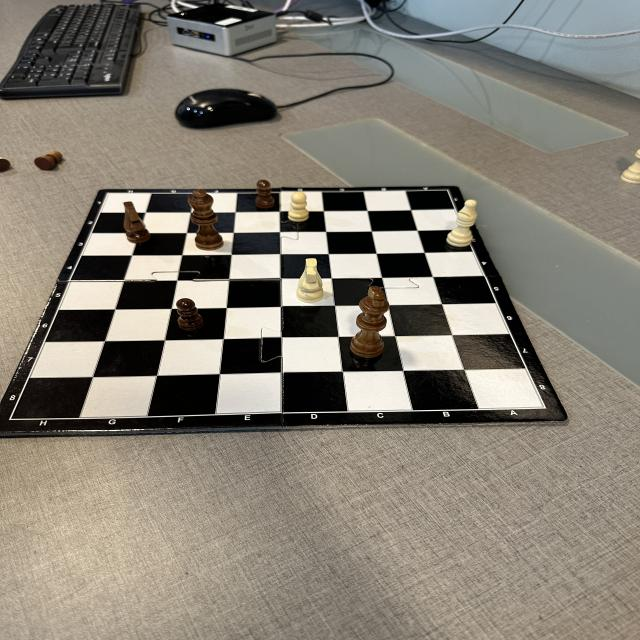Black-King: (350, 286, 390, 358)
Black-Knight: (123, 201, 152, 244)
Black-Pawn: (176, 298, 204, 331), (254, 180, 276, 209), (34, 151, 64, 171)
Black-Queen: (188, 188, 225, 250)
White-Bishop: (446, 200, 477, 248)
White-Knight: (295, 258, 324, 303)
White-Pawn: (287, 192, 310, 222)
